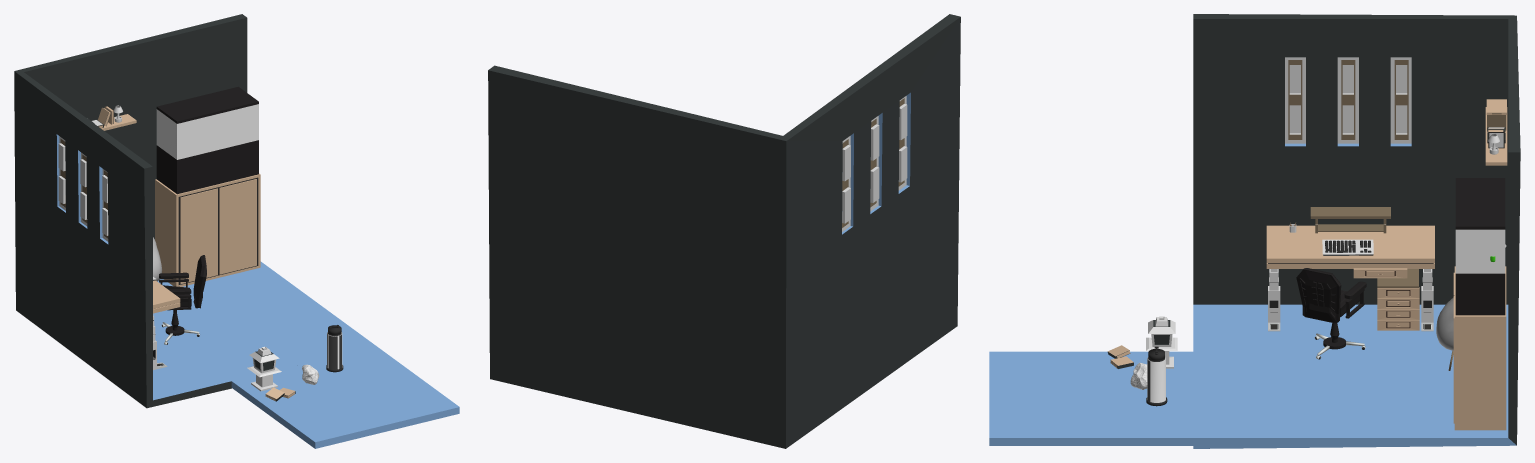
The model's file is AnotherFinalFnal.glb.
The picture shows the model from 3 angles, left to right: view 1: azimuth 30°, elevation 25°; view 2: azimuth 150°, elevation 25°; view 3: azimuth 270°, elevation 25°; orthographic projection. The views are drawn at different scales.
Visible parts, largest first — view 1: Cube, Room.002, Cube.002, Cube.003, Cube.004, GamingChair, Plane, Plane.019, Cylinder.004, Tablenotapplied; view 2: Cube, Plane; view 3: Cube, Room.002, Cube.002, Tablenotapplied, Plane, Cube.003, GamingChair, Cube.004, Cube.079, Tablenotapplied.001, Cube.007, Cylinder.004 (+7 smaller).
Boxes of the visible parts, <box> form: Cube: <box>14,14,375,408</box>; Room.002: <box>231,346,459,448</box>; Cube.002: <box>155,173,260,286</box>; Cube.003: <box>156,86,258,194</box>; Cube.004: <box>156,104,258,159</box>; GamingChair: <box>159,255,206,335</box>; Plane: <box>58,136,108,241</box>; Plane.019: <box>247,346,281,391</box>; Cylinder.004: <box>326,325,343,372</box>; Tablenotapplied: <box>153,280,180,313</box>; Cube: <box>488,14,960,448</box>; Plane: <box>842,96,907,231</box>; Cube: <box>1193,14,1520,448</box>; Room.002: <box>989,351,1193,445</box>; Cube.002: <box>1453,266,1506,430</box>; Tablenotapplied: <box>1266,225,1434,268</box>; Plane: <box>1285,57,1411,143</box>; Cube.003: <box>1455,178,1505,315</box>; GamingChair: <box>1296,268,1366,349</box>; Cube.004: <box>1455,229,1505,273</box>; Cube.079: <box>1377,287,1419,330</box>; Tablenotapplied.001: <box>1310,207,1390,233</box>; Cube.007: <box>1268,269,1433,324</box>; Cylinder.004: <box>1146,346,1167,406</box>.
Bounding box in the file's own units: 11.37 × 11.37 × 18.45.
